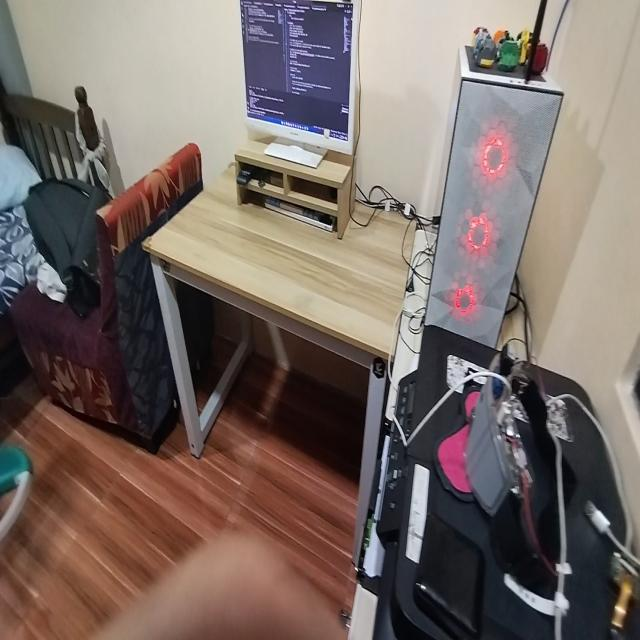table: (154, 153, 411, 520)
